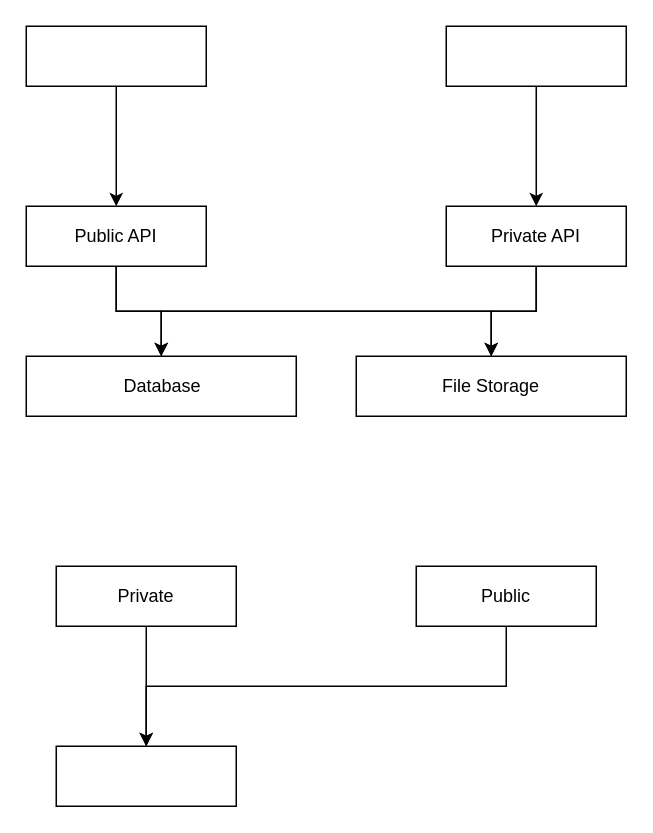
Some shapes in this 653 by 833 pixel diagram are drawn without their labels. Each missing label, with the centre of its shape:
Admin (Website): point 535,55
Models: point 145,775
Public App: point 115,55
